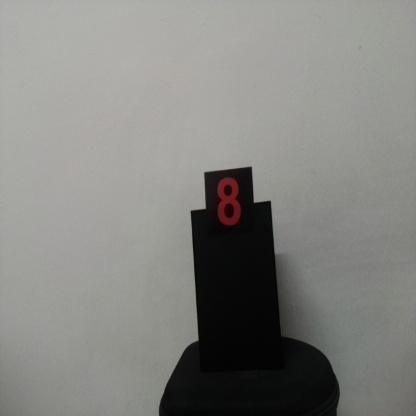id_8: (205, 172, 253, 242)
